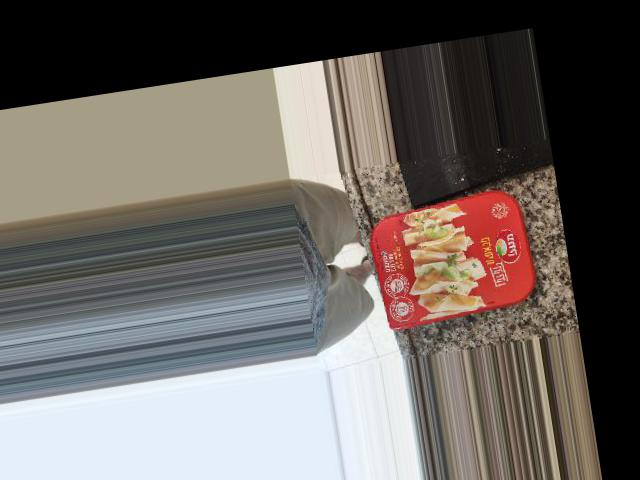cheese: (332, 175, 506, 323)
